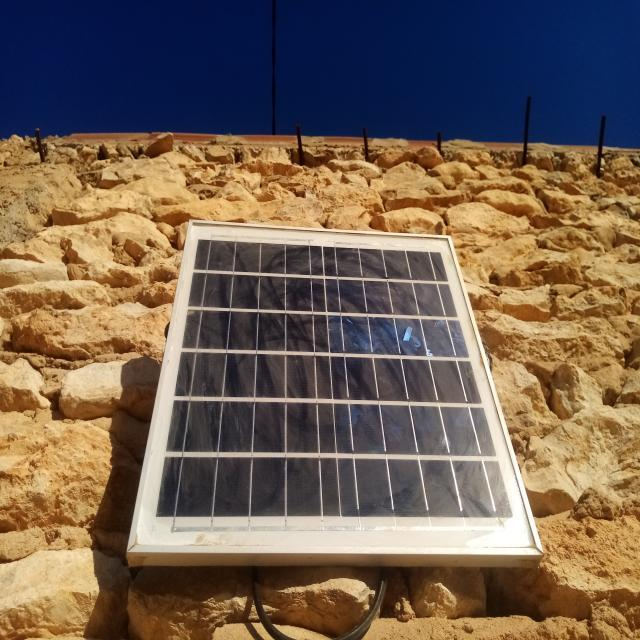faulty: (129, 222, 537, 554)
